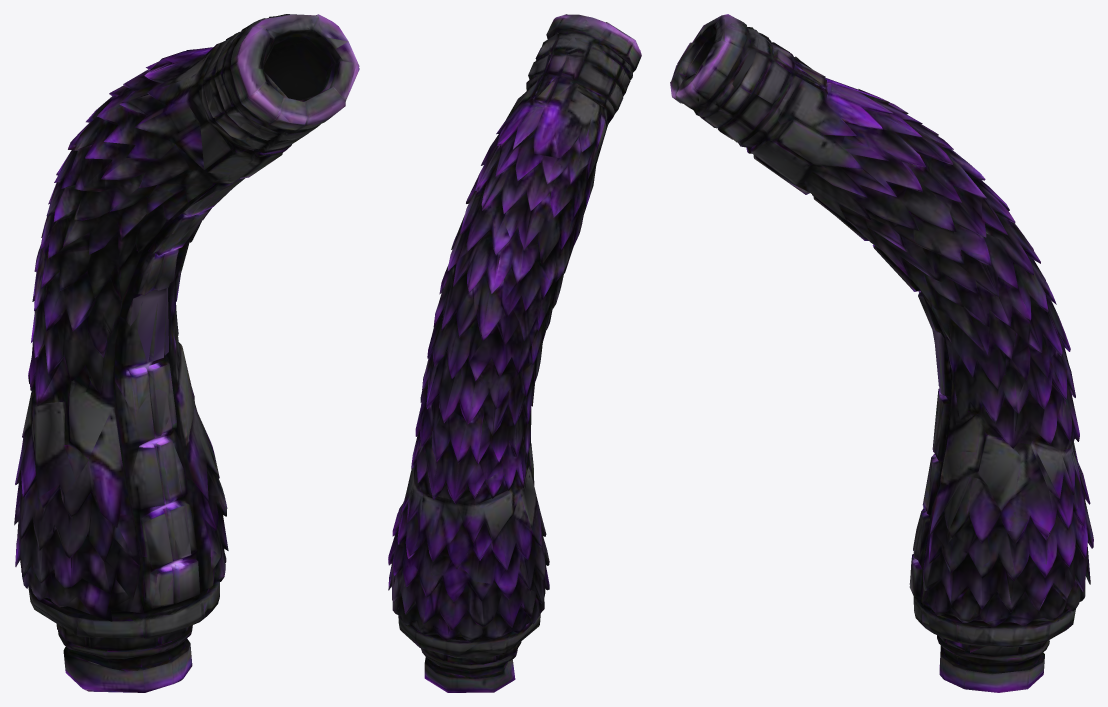
File: nostrich_neck_thin_top.glb
The picture shows the model from 3 angles, left to right: view 1: azimuth 30°, elevation 25°; view 2: azimuth 150°, elevation 25°; view 3: azimuth 270°, elevation 25°; orthographic projection. The views are drawn at different scales.
Parts seen in each view (by area): view 1: material; view 2: material; view 3: material.
Boxes of the visible parts, x1,y1,x2,y2 form: material: [14, 14, 359, 692]; material: [388, 14, 641, 692]; material: [670, 14, 1093, 692].
Size of the model in its own units: 0.275 by 1.1 by 0.6437.
Materials: 1 (1 with a texture image).
